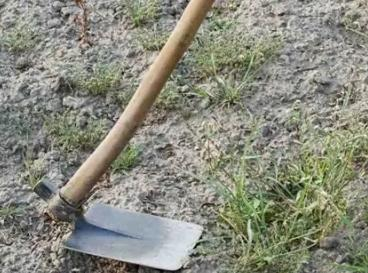HOUE: (30, 0, 210, 273)
